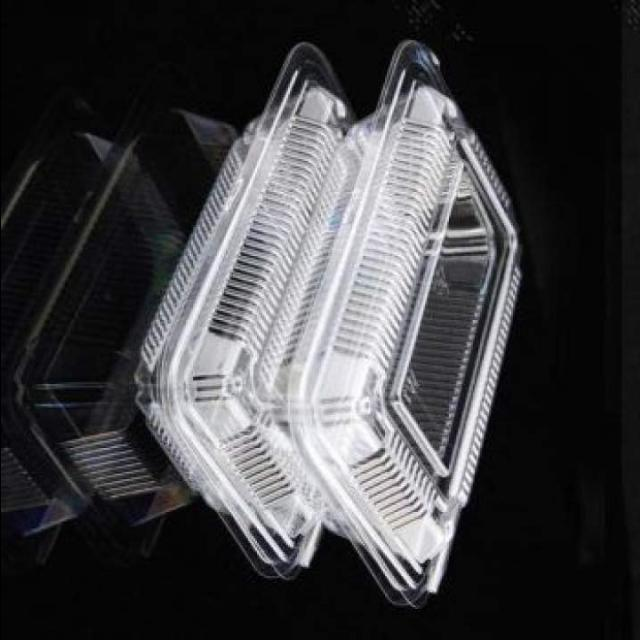plastic_box: (99, 0, 633, 639), (290, 4, 532, 628)
